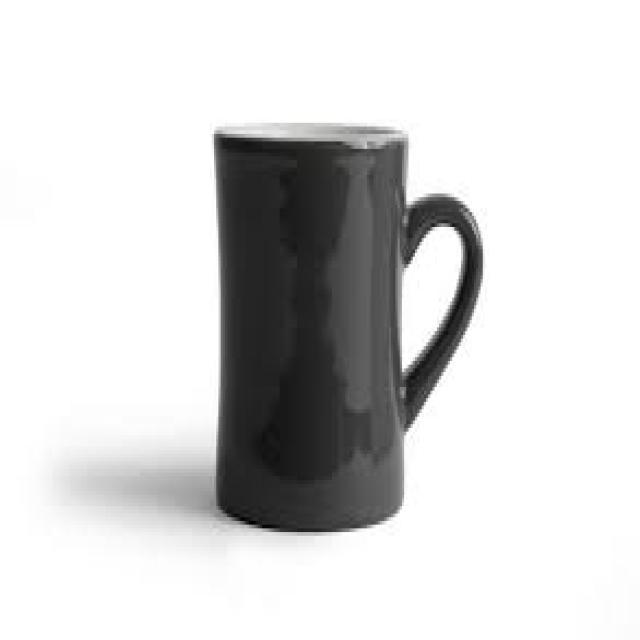taza: (214, 121, 484, 538)
